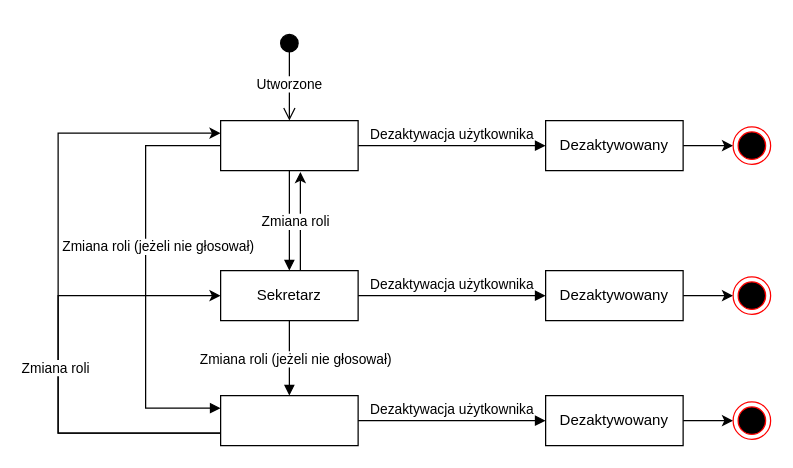
Some shapes in this 793 by 468 pixel diagram are drawn without their labels. Here are the shapes that lost their labels. From the top down, the centre of each, then its label:
At (x=288, y=145): "Domyślny".
At (x=288, y=420): "Administrator".
